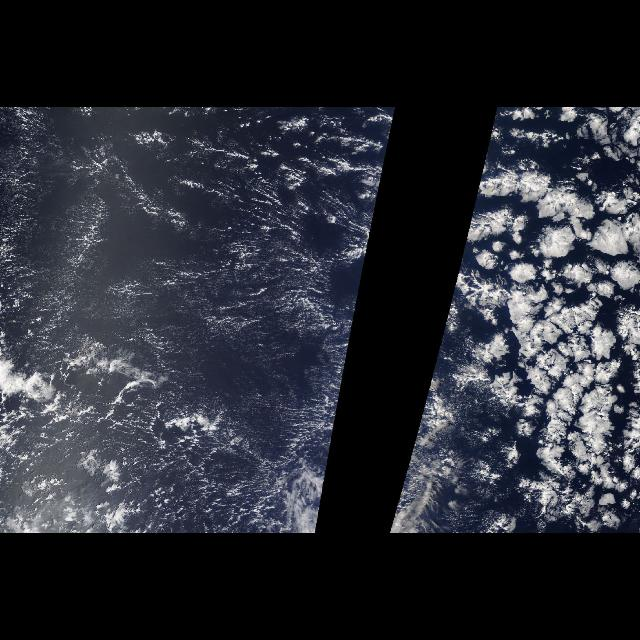Flower: (470, 120, 638, 532)
Sugar: (25, 118, 345, 496)
